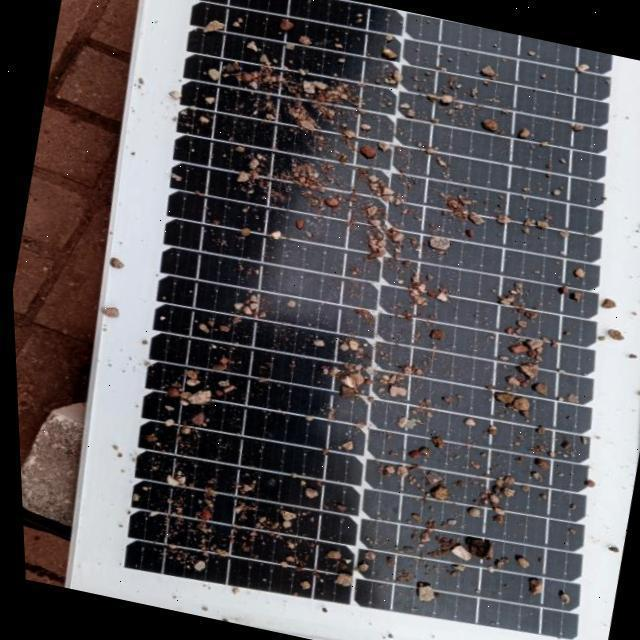Surface Contaminant: (68, 0, 638, 640)
